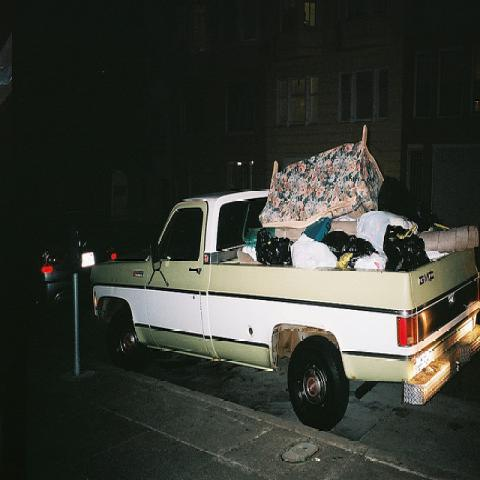car: (34, 212, 122, 322)
truck: (83, 142, 479, 430)
